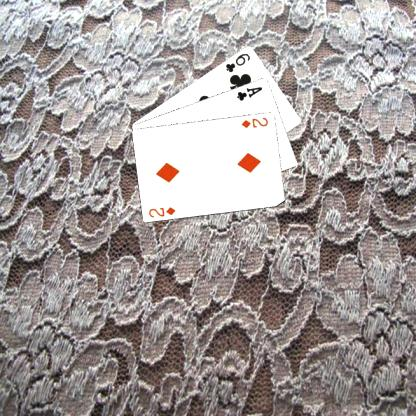2D: (146, 203, 176, 219), (238, 115, 270, 129)
6C: (223, 50, 251, 74)
AC: (234, 84, 264, 102)
